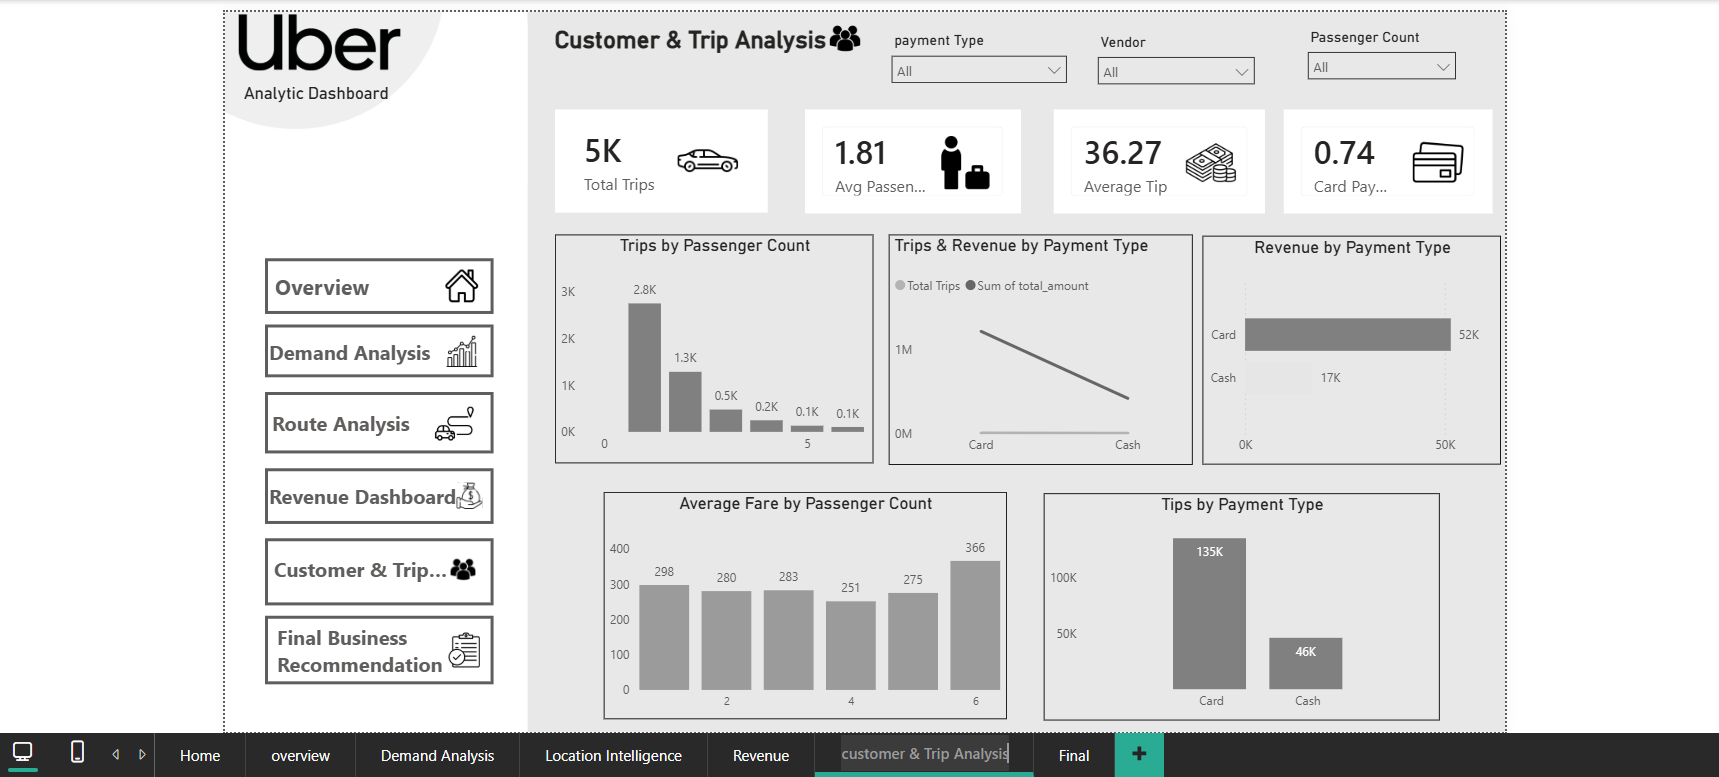

This screenshot's page, from the dashboard's own definition file:
{"tool":"powerbi","page":{"name":"customer & Trip Analysis","canvas":[1280,720],"ordinal":5},"visuals":[{"type":"shape","box":[0,0,302.9,734.3],"z":2000},{"type":"image","box":[92.9,44.3,195.7,52.9],"z":3000},{"type":"cardVisual","fields":{"Data":["img.Total Trips"]},"box":[330,97.1,215.7,101.4],"z":4000},{"type":"image","box":[0,0,302.9,170],"z":5000},{"type":"image","box":[14.3,0,161.4,61.4],"z":6000},{"type":"clusteredColumnChart","title":"Trips by Passenger Count","fields":{"Category":["uber_analysis uber_cleaned.passenger_count"],"Y":["img.Total Trips"]},"box":[330,222.9,318.6,228.6],"z":7000},{"type":"columnChart","title":"Average Fare by Passenger Count","fields":{"Category":["uber_analysis uber_cleaned.passenger_count"],"Y":["img.Avg Fare"]},"box":[378.6,480,402.9,227.1],"z":8000},{"type":"barChart","title":"Revenue by Payment Type","fields":{"Category":["uber_analysis uber_cleaned.payment_type"],"Y":["Sum(uber_analysis uber_cleaned.total_amount)"]},"box":[977.1,224.3,298.6,228.6],"z":9000},{"type":"textbox","title":"Customer & Trip Analysis","box":[317.1,14.3,295.7,64.3],"z":10000},{"type":"slicer","fields":{"Values":["uber_analysis uber_cleaned.payment_type"]},"box":[648.6,14.3,195.7,61.4],"z":11000},{"type":"slicer","fields":{"Values":["uber_analysis uber_cleaned.vendor_id"]},"box":[862.9,15.7,177.1,62.9],"z":12000},{"type":"textbox","title":"Analytic Dashboard","box":[14.3,71.4,195.7,38.6],"z":13000},{"type":"actionButton","box":[24.3,208.6,264.3,65.7],"z":14000},{"type":"actionButton","box":[24.3,288.6,264.3,68.6],"z":15000},{"type":"actionButton","box":[24.3,382.9,262.9,68.6],"z":16000},{"type":"actionButton","box":[24.3,468.6,264.3,68.6],"z":17000},{"type":"actionButton","box":[24.3,547.1,262.9,68.6],"z":18000},{"type":"actionButton","box":[24.3,627.1,262.9,68.6],"z":19000},{"type":"cardVisual","fields":{"Data":["img.Average Passenger"]},"box":[580,97.1,215.7,104.3],"z":20000},{"type":"cardVisual","fields":{"Data":["img.Average Tip"]},"box":[828.6,97.1,211.4,104.3],"z":21000},{"type":"clusteredColumnChart","title":"Tips by Payment Type","fields":{"Category":["uber_analysis uber_cleaned.payment_type"],"Y":["Sum(uber_analysis uber_cleaned.tip_amount)"]},"box":[818.6,481.4,395.7,227.1],"z":22000},{"type":"slicer","fields":{"Values":["uber_analysis uber_cleaned.passenger_count"]},"box":[1072.9,11.4,168.6,64.3],"z":23000},{"type":"cardVisual","fields":{"Data":["img.Card Payment %"]},"box":[1058.6,97.1,208.6,104.3],"z":24000},{"type":"lineChart","title":"Trips & Revenue by Payment Type","fields":{"Category":["uber_analysis uber_cleaned.payment_type"],"Y":["img.Total Trips","Sum(uber_analysis uber_cleaned.total_amount)"]},"box":[664.3,222.9,304.3,230],"z":25000,"group":"g1"},{"type":"group","id":"g1","title":"Group 1","box":[664.3,222.9,304.3,230],"z":25002}]}

Visuals, with their boxes on the page's 1280x720 design canvas (x1, y1, x2, y2). These are canvas units, not pixel positions in the 1719x777 screenshot, which may show the page scaled, cropped or inside an application window:
shape: [x1=0, y1=0, x2=303, y2=734]
image: [x1=93, y1=44, x2=289, y2=97]
cardVisual - img.Total Trips: [x1=330, y1=97, x2=546, y2=198]
image: [x1=0, y1=0, x2=303, y2=170]
image: [x1=14, y1=0, x2=176, y2=61]
"Trips by Passenger Count" clusteredColumnChart: [x1=330, y1=223, x2=649, y2=452]
"Average Fare by Passenger Count" columnChart: [x1=379, y1=480, x2=782, y2=707]
"Revenue by Payment Type" barChart: [x1=977, y1=224, x2=1276, y2=453]
"Customer & Trip Analysis" textbox: [x1=317, y1=14, x2=613, y2=79]
slicer - uber_analysis uber_cleaned.payment_type: [x1=649, y1=14, x2=844, y2=76]
slicer - uber_analysis uber_cleaned.vendor_id: [x1=863, y1=16, x2=1040, y2=79]
"Analytic Dashboard" textbox: [x1=14, y1=71, x2=210, y2=110]
actionButton: [x1=24, y1=209, x2=289, y2=274]
actionButton: [x1=24, y1=289, x2=289, y2=357]
actionButton: [x1=24, y1=383, x2=287, y2=452]
actionButton: [x1=24, y1=469, x2=289, y2=537]
actionButton: [x1=24, y1=547, x2=287, y2=616]
actionButton: [x1=24, y1=627, x2=287, y2=696]
cardVisual - img.Average Passenger: [x1=580, y1=97, x2=796, y2=201]
cardVisual - img.Average Tip: [x1=829, y1=97, x2=1040, y2=201]
"Tips by Payment Type" clusteredColumnChart: [x1=819, y1=481, x2=1214, y2=708]
slicer - uber_analysis uber_cleaned.passenger_count: [x1=1073, y1=11, x2=1242, y2=76]
cardVisual - img.Card Payment %: [x1=1059, y1=97, x2=1267, y2=201]
"Trips & Revenue by Payment Type" lineChart: [x1=664, y1=223, x2=969, y2=453]
"Group 1" group: [x1=664, y1=223, x2=969, y2=453]
